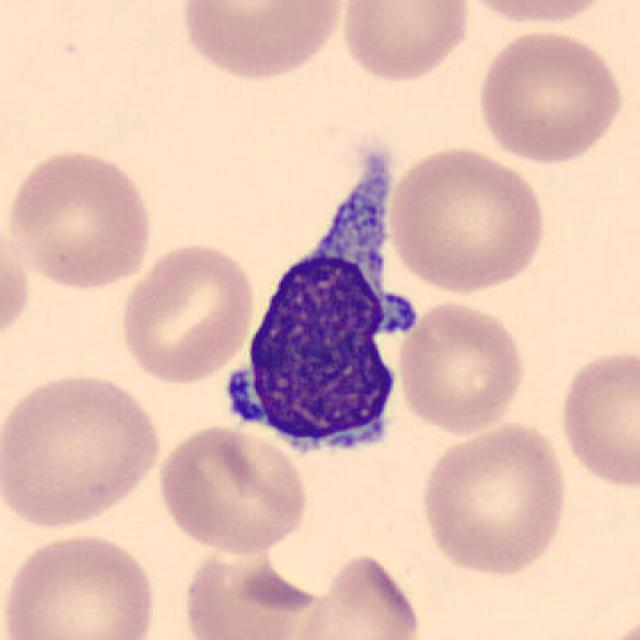Lymphocyte: (232, 140, 444, 472)
RBC: (0, 366, 165, 532), (384, 141, 549, 296), (414, 420, 572, 578), (2, 144, 158, 292), (473, 24, 627, 168), (153, 422, 311, 556), (115, 238, 258, 386), (394, 298, 530, 435), (0, 529, 160, 640), (179, 539, 325, 640), (174, 0, 350, 83), (288, 550, 427, 640), (555, 344, 638, 492), (336, 0, 475, 85), (455, 0, 617, 28), (0, 220, 32, 356)
